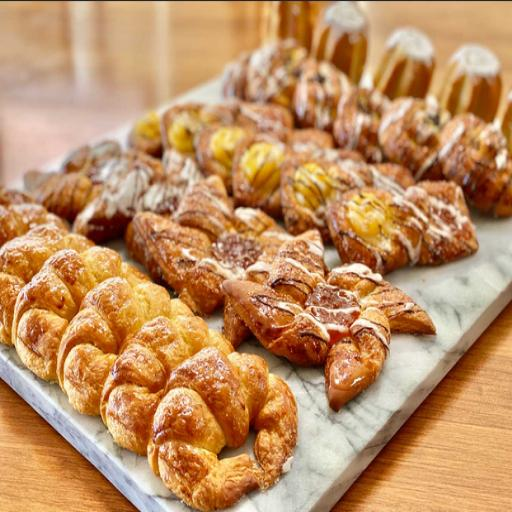bolleria: (223, 232, 390, 411), (147, 347, 297, 511), (57, 277, 223, 416), (101, 314, 232, 454), (13, 246, 148, 380), (326, 181, 478, 273)
